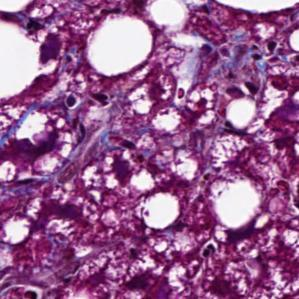inflammation: (60, 84, 122, 127), (10, 128, 61, 165)
